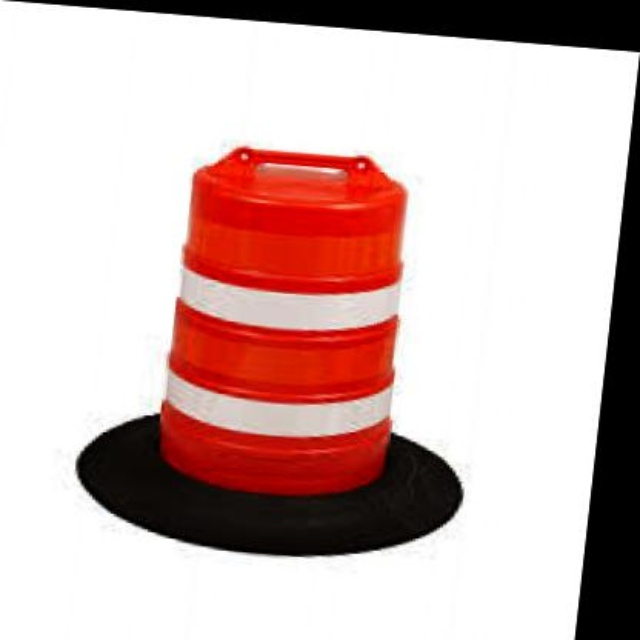obstacle: (146, 122, 445, 516)
